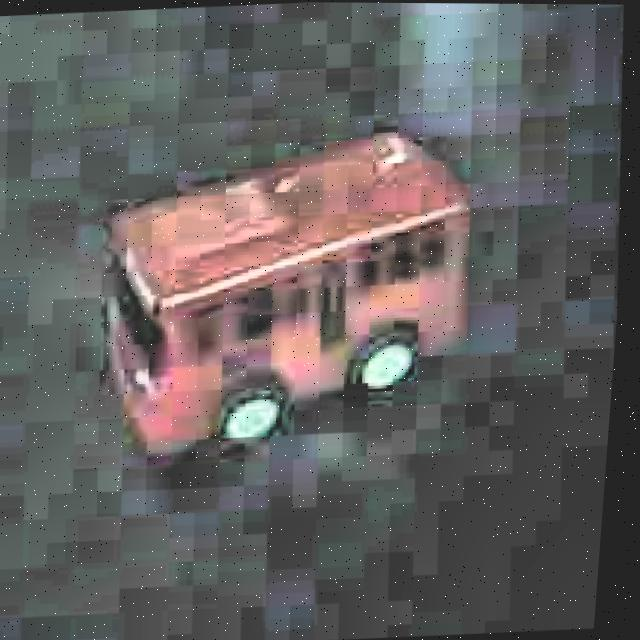bus: (81, 117, 496, 457)
